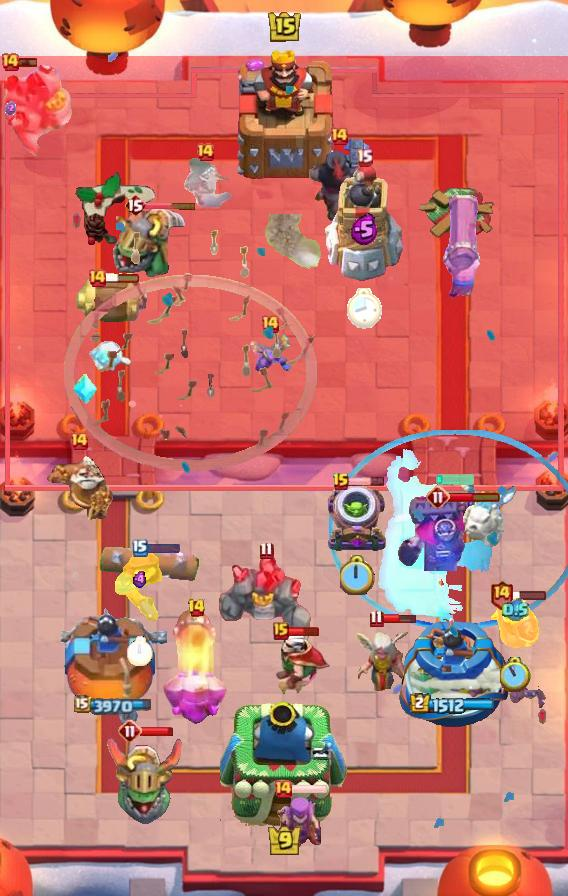barbarian-barrel: (506, 681, 546, 709)
bat: (88, 340, 132, 374)
battle-healer: (440, 195, 486, 299)
cannoneer-tower: (217, 552, 315, 654), (0, 65, 72, 159)
electro-spirit: (350, 213, 378, 246), (503, 598, 530, 622), (132, 571, 148, 588), (5, 101, 16, 115)
elixir: (346, 288, 382, 330), (341, 555, 376, 595), (501, 657, 532, 691), (127, 636, 153, 666)
elixir-collector: (44, 453, 114, 527)
emote: (447, 491, 501, 503), (143, 202, 197, 211), (292, 783, 329, 795), (3, 56, 39, 68), (105, 272, 141, 284), (511, 589, 547, 601), (347, 476, 384, 487), (145, 542, 181, 553), (381, 612, 417, 623), (286, 626, 320, 637), (140, 726, 174, 737)
fireball: (115, 548, 165, 624)
firecracker-evolution: (492, 591, 541, 649)
fisherman: (261, 213, 324, 274)
furnace: (162, 606, 230, 726)
goblin-cage: (325, 484, 389, 554)
ice-spirit: (435, 473, 475, 485)
inferno-dragon: (308, 136, 373, 224)
inferno-tower: (395, 493, 515, 571)
king-tower: (220, 702, 348, 827), (229, 43, 339, 181)
mini-pekka: (455, 474, 519, 550)
minion: (98, 545, 204, 583)
night-witch: (105, 736, 185, 826), (110, 207, 192, 279)
pad_0: (328, 430, 568, 632)
pad_2: (72, 373, 98, 405)
poison: (342, 624, 430, 698)
queen-tower: (395, 614, 514, 730), (61, 603, 167, 731)
rascal-girl: (273, 794, 323, 854)
royal-delivery: (248, 333, 292, 379)
selected: (410, 693, 496, 715), (74, 695, 154, 715)
skeleton-barrel: (64, 228, 318, 472)
skeleton-king: (256, 630, 334, 698)
tesla: (178, 155, 232, 207)
text: (490, 578, 515, 609), (426, 485, 450, 509), (118, 719, 142, 743), (124, 193, 146, 217), (0, 52, 20, 72), (329, 126, 349, 146), (195, 142, 215, 162), (87, 268, 107, 288), (260, 314, 280, 334), (69, 431, 89, 451), (273, 779, 293, 799), (186, 598, 205, 618), (332, 472, 350, 492), (355, 148, 373, 167), (132, 539, 148, 557), (273, 622, 289, 640), (259, 540, 273, 559), (369, 609, 383, 627)
the-log: (75, 276, 151, 326)
zappy: (321, 163, 407, 283)
